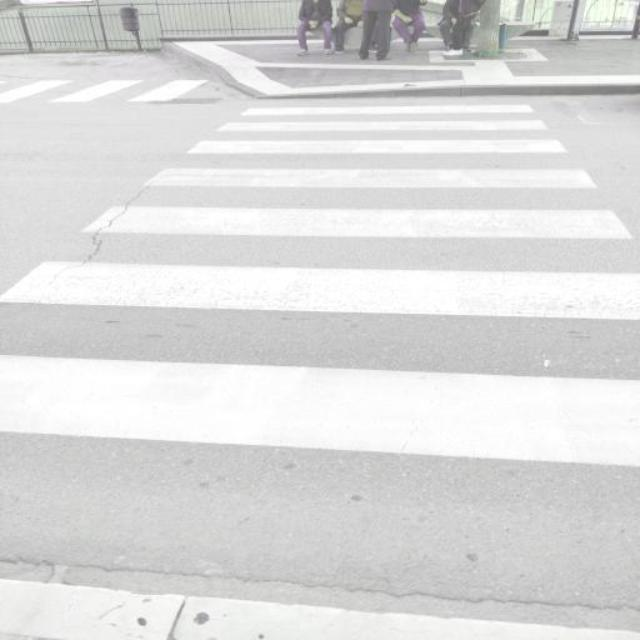sidewalk: (0, 56, 640, 640)
